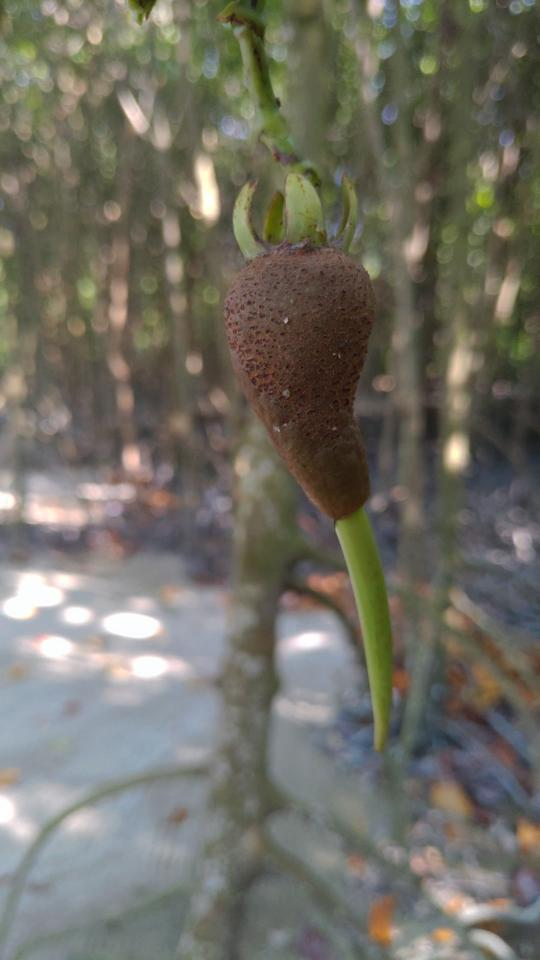mentah: (217, 149, 426, 781)
